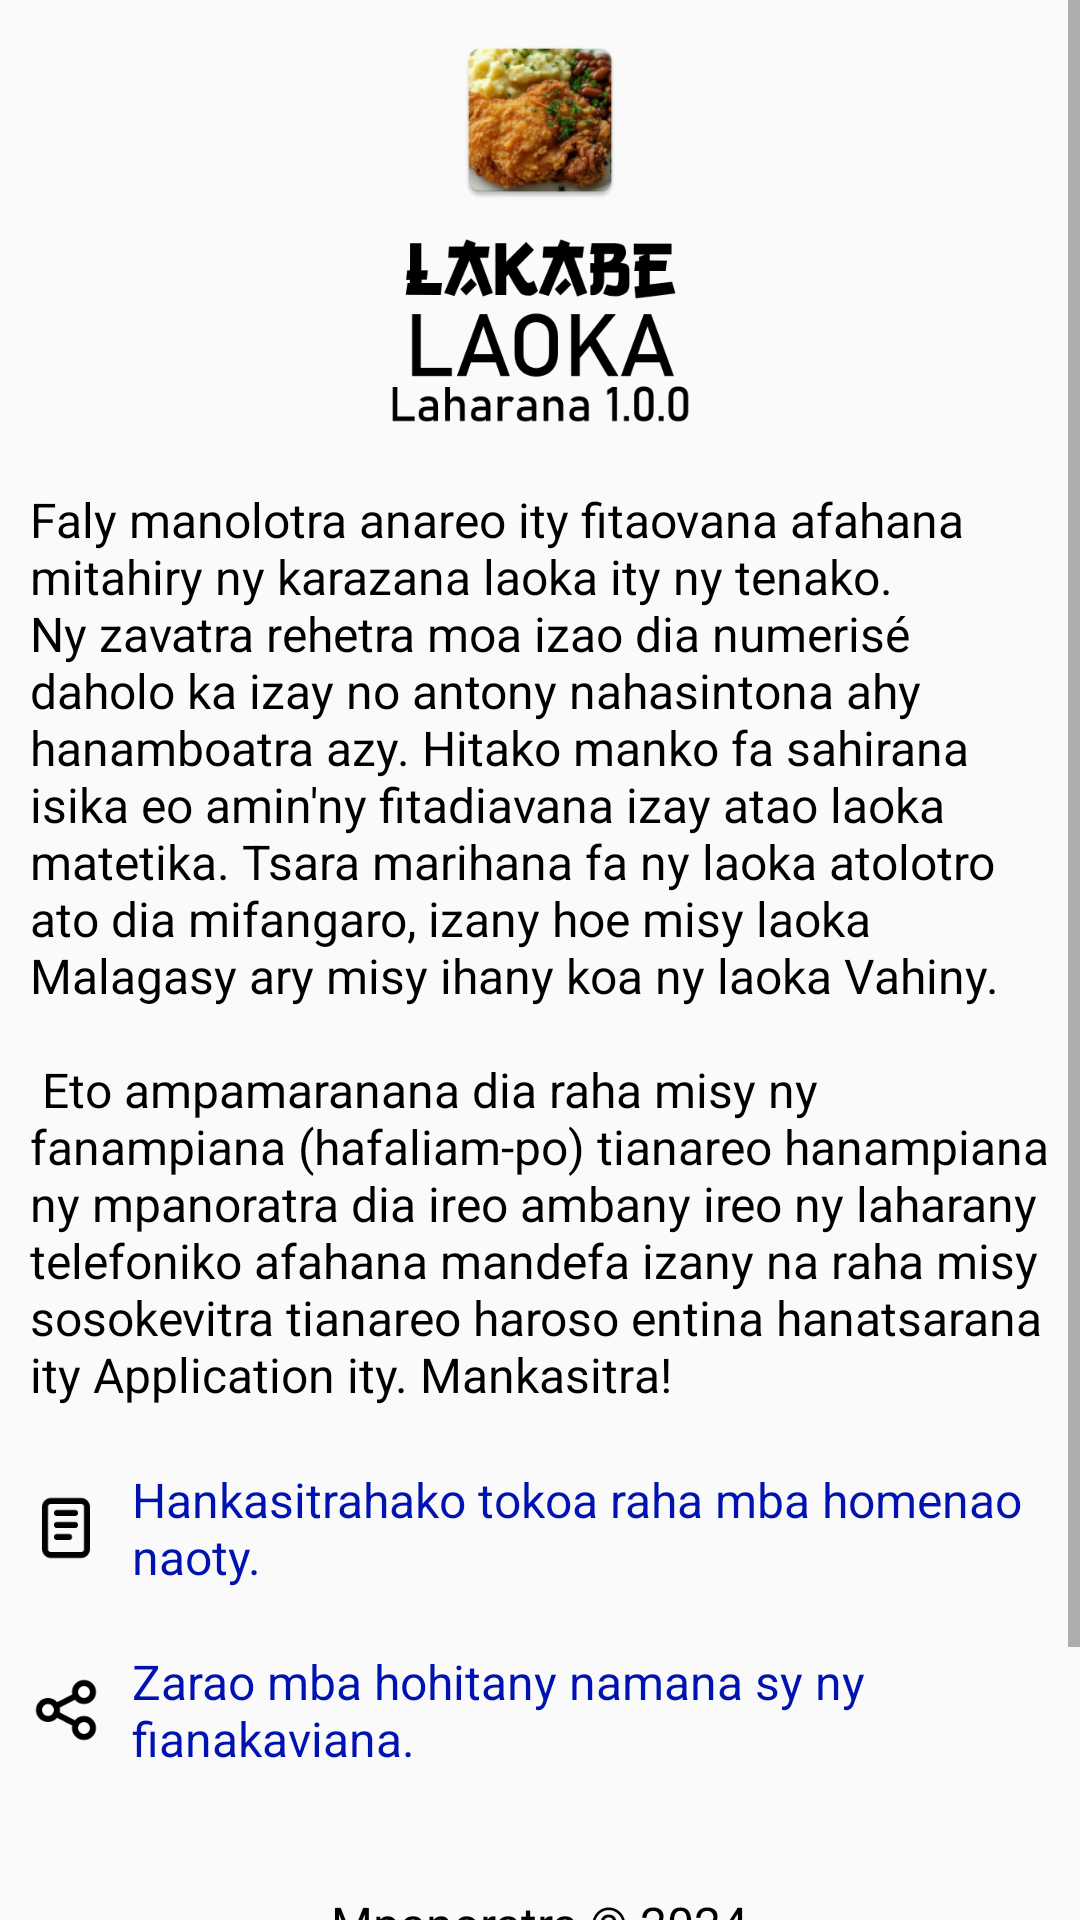

Named icons in this screenshot (1080 × 1920) and their centers, (x=x, y=y):
note: (x=66, y=1528)
share: (x=66, y=1710)
